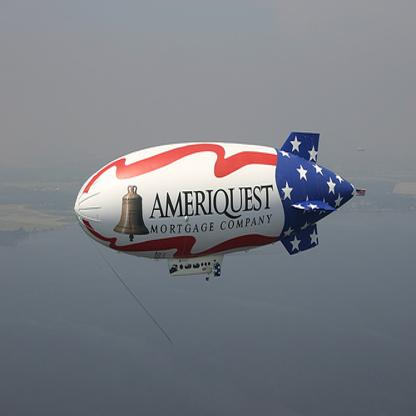Airship: (75, 130, 370, 278)
